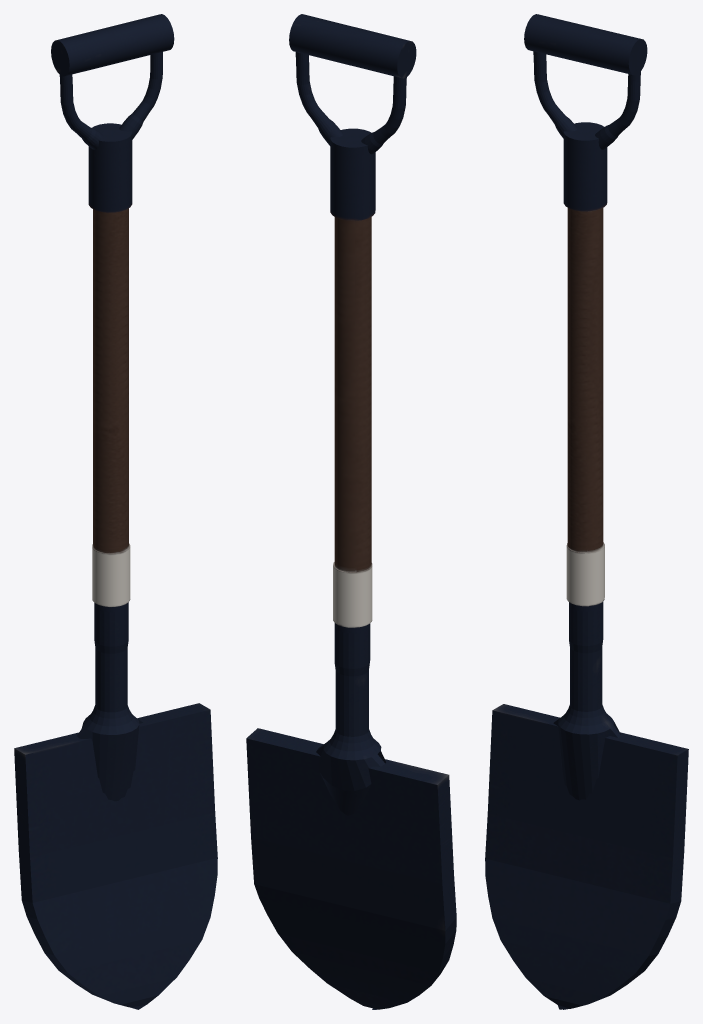
Rendered from shovel_1.glb.
3 renders of one model, left to right at view 1: azimuth 30°, elevation 25°; view 2: azimuth 150°, elevation 25°; view 3: azimuth 330°, elevation 25°, orthographic. The views are drawn at different scales.
Visible parts, largest first — view 1: f5bb6ebd8c9d4a5780bbc43155f2396b; view 2: f5bb6ebd8c9d4a5780bbc43155f2396b; view 3: f5bb6ebd8c9d4a5780bbc43155f2396b.
Part boxes in pixels (x1,y1,x2,y2): f5bb6ebd8c9d4a5780bbc43155f2396b: [14, 14, 217, 1009]; f5bb6ebd8c9d4a5780bbc43155f2396b: [246, 14, 456, 1009]; f5bb6ebd8c9d4a5780bbc43155f2396b: [485, 14, 688, 1009].
Size of the model in its own units: 0.2007 by 1 by 0.077.
Materials: 1 (1 with a texture image).
